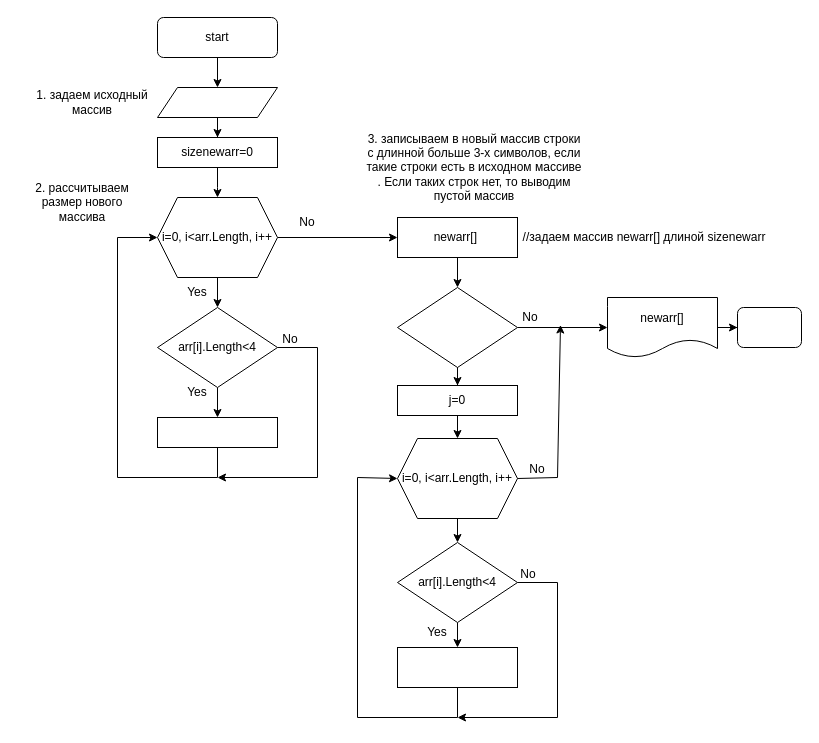
The diagram is 819 pixels wide and 743 high, and some of its shapes have lost their labels. Here are the shapes that lost their labels. From the top down, the centre of each, then its label:
At (217,102): "arr[]".
At (457,327): "if newarr.Length>0".
At (769,327): "End".
At (217,432): "sizenewarr++".
At (457,667): "newarr[j]=arr[i] j++".
